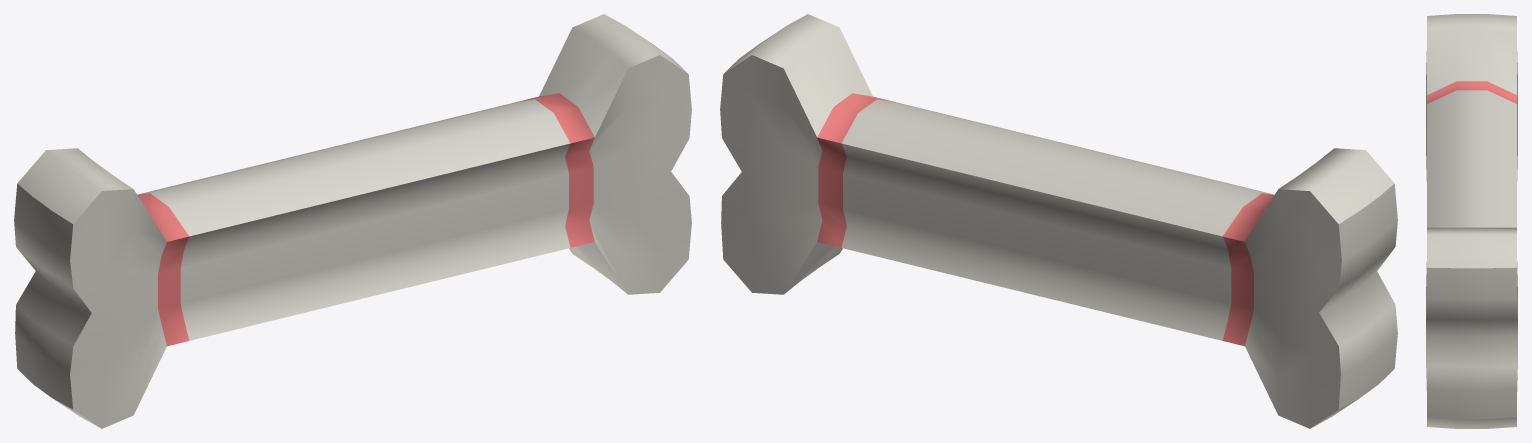
Rendered from Bone.fbx.
3 views of the same model, side by side, from view 1: azimuth 30°, elevation 25°; view 2: azimuth 150°, elevation 25°; view 3: azimuth 270°, elevation 25° (orthographic). The views are drawn at different scales.
Visible parts, largest first — view 1: pCube2; view 2: pCube2; view 3: pCube2.
Part boxes in pixels (x1,y1,x2,y2): pCube2: (14, 14, 691, 428); pCube2: (720, 14, 1397, 428); pCube2: (1426, 14, 1517, 428).
Bounding box in the file's own units: 7.16 × 2.62 × 1.12.
